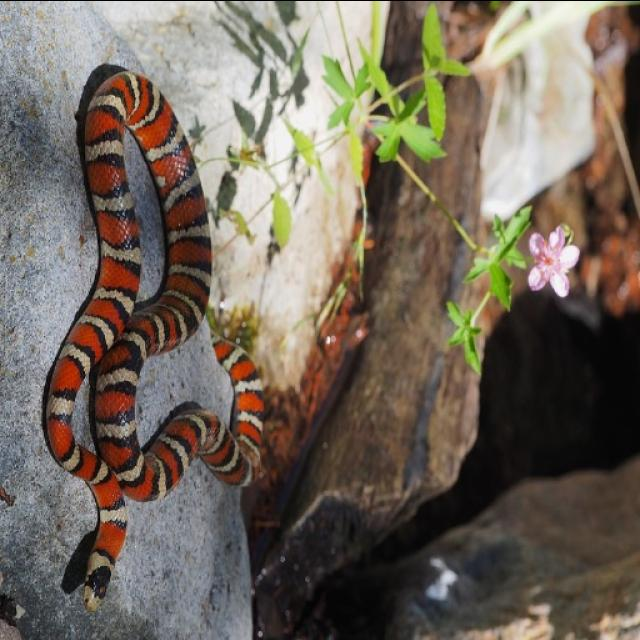snake: (16, 56, 292, 612)
